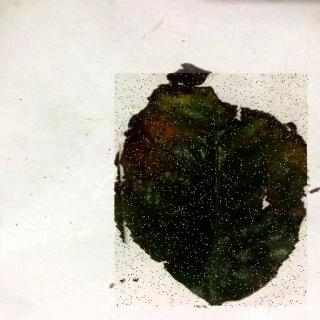Red Leaf Spot: (116, 75, 310, 309)
